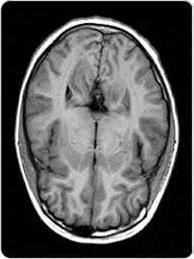Normal_Brain: (9, 3, 194, 259)
